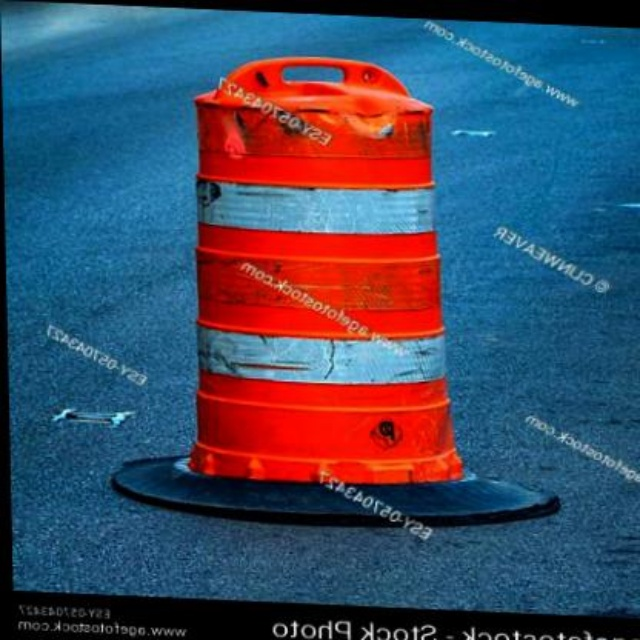obstacle: (164, 60, 468, 495)
